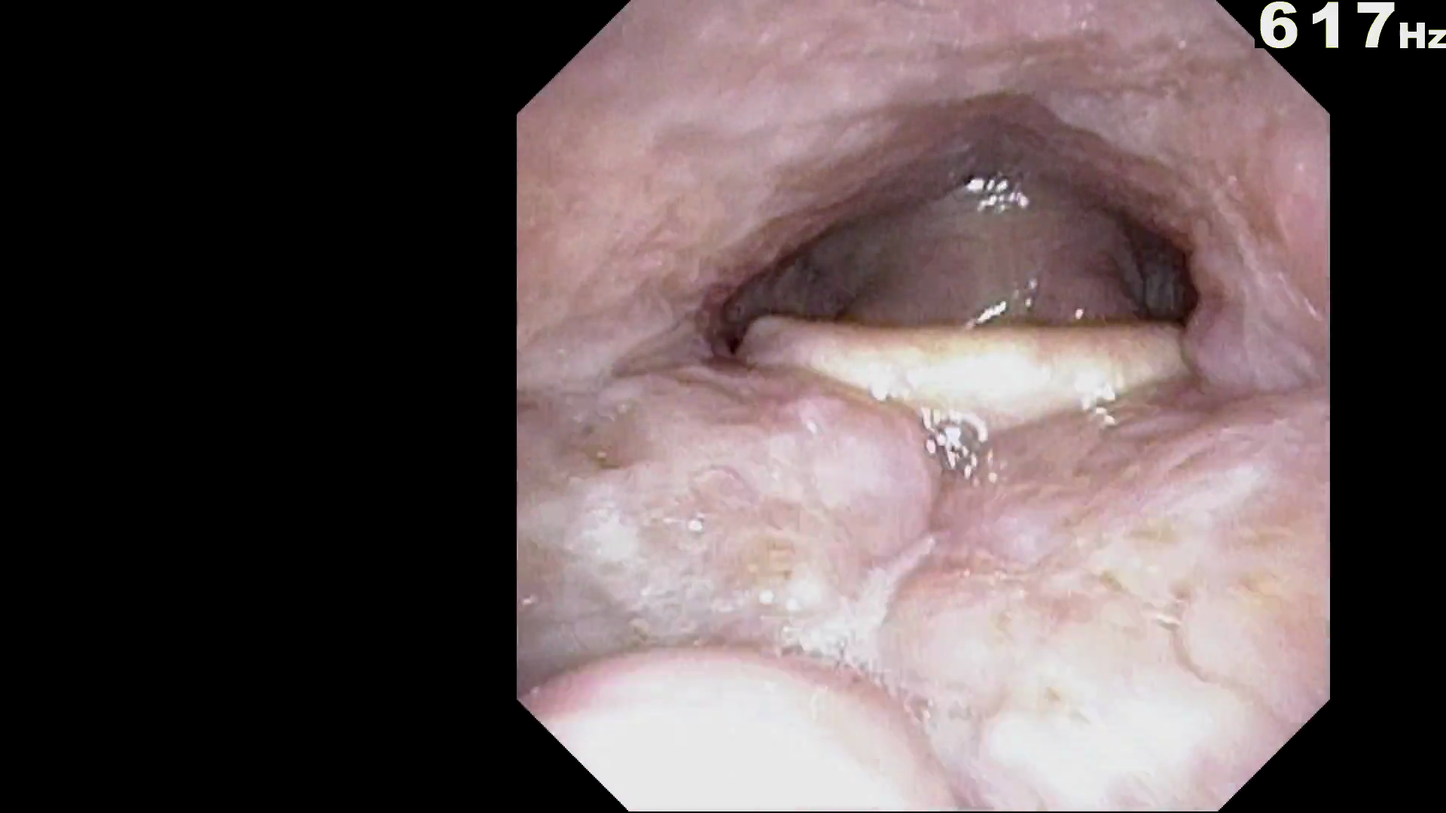epiglottis: (745, 283, 1212, 459)
trachea: (850, 232, 1002, 411)
